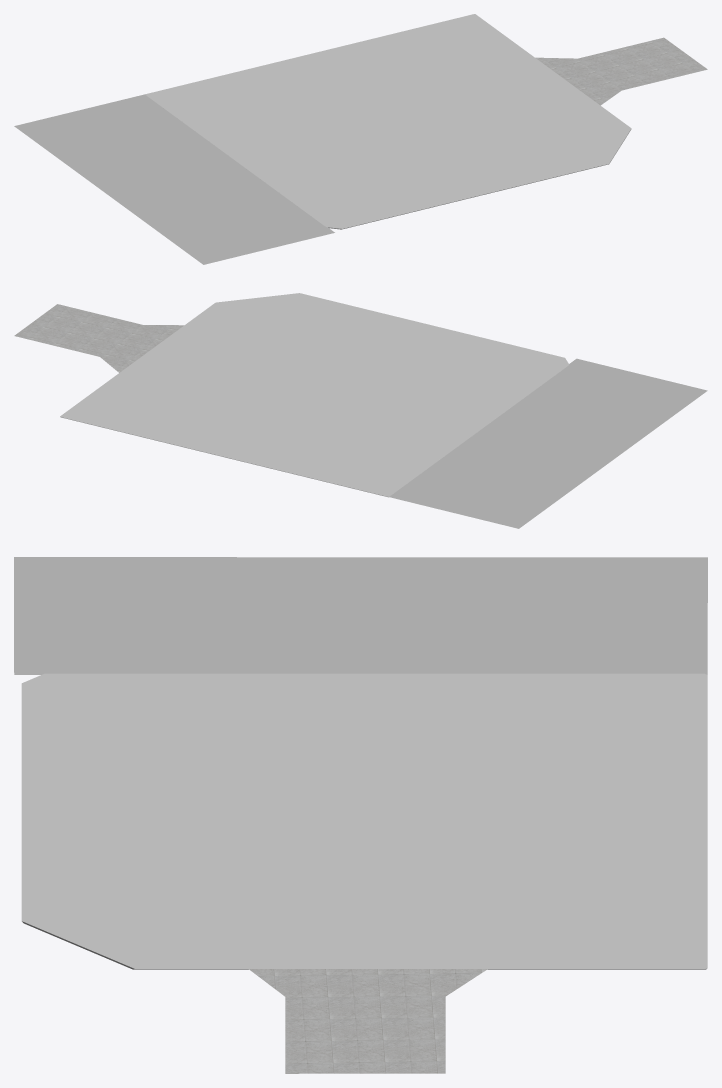
File: SM_Arc_ArmoryBaseFloor_A_V3.fbx
The picture shows the model from 3 angles, top to bottom: view 1: azimuth 30°, elevation 25°; view 2: azimuth 150°, elevation 25°; view 3: azimuth 270°, elevation 25°; orthographic projection. The views are drawn at different scales.
Parts seen in each view (by area): view 1: SM_Arc_ArmoryBaseFloor_A_V3_ConvexHulls, SM_Arc_ArmoryBaseFloor_A_V3; view 2: SM_Arc_ArmoryBaseFloor_A_V3_ConvexHulls, SM_Arc_ArmoryBaseFloor_A_V3; view 3: SM_Arc_ArmoryBaseFloor_A_V3_ConvexHulls, SM_Arc_ArmoryBaseFloor_A_V3.
Part boxes in pixels (x1=…): SM_Arc_ArmoryBaseFloor_A_V3_ConvexHulls: x1=145, y1=14, x2=631, y2=229; SM_Arc_ArmoryBaseFloor_A_V3: x1=14, y1=37, x2=707, y2=264; SM_Arc_ArmoryBaseFloor_A_V3_ConvexHulls: x1=60, y1=293, x2=569, y2=497; SM_Arc_ArmoryBaseFloor_A_V3: x1=14, y1=304, x2=707, y2=528; SM_Arc_ArmoryBaseFloor_A_V3_ConvexHulls: x1=21, y1=673, x2=707, y2=969; SM_Arc_ArmoryBaseFloor_A_V3: x1=14, y1=557, x2=707, y2=1073.
Bounding box in the file's own units: 12972 × 7363 × 17.75.
4 materials, 3 textured.
